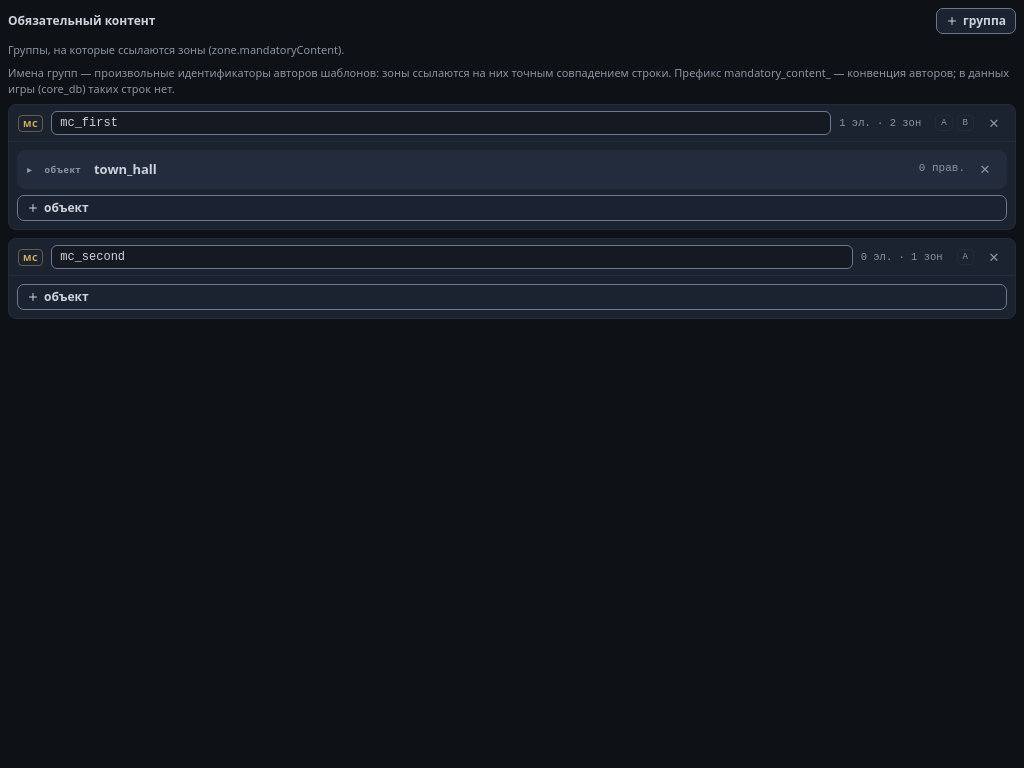
Test case: удаление корневой группы (MandatoryContentPanel) › «Удалить» убирает карточку и каскадно чистит ссылки зон в сторе
The image size is (1024, 768).
Click the button titled "Удалить группу" in the row of "1 эл. · 2 зон". click: [994, 123]
box: [982,111,1006,135]
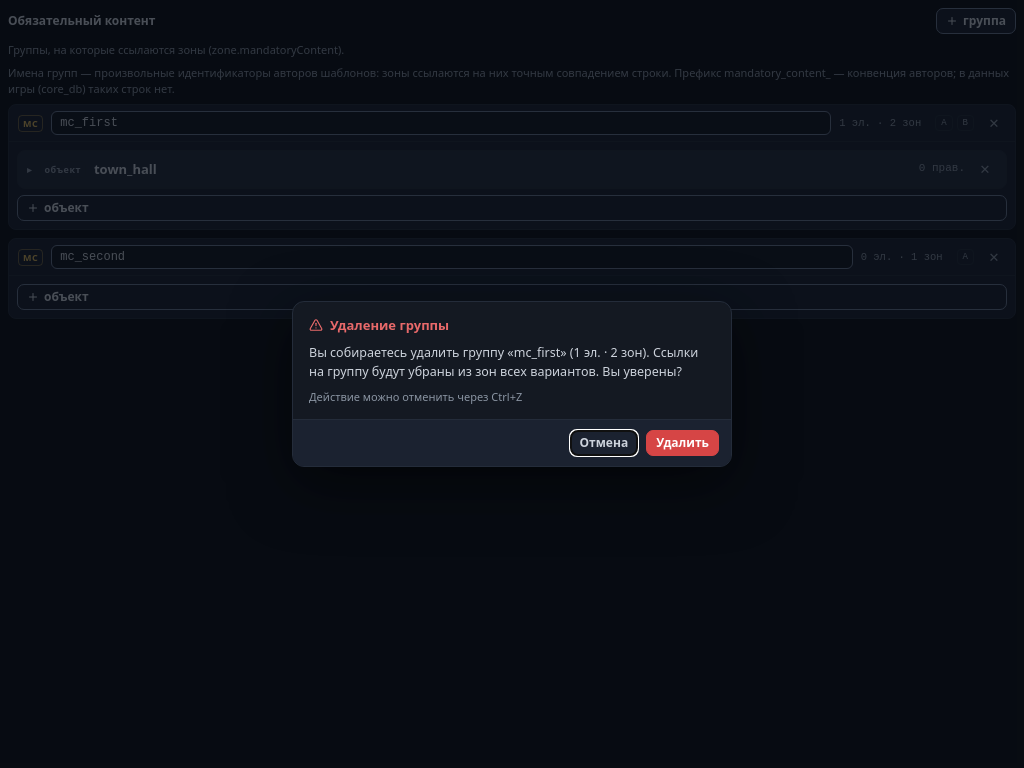
Click the button "Удалить". click: [683, 443]
box: [646,430,719,456]
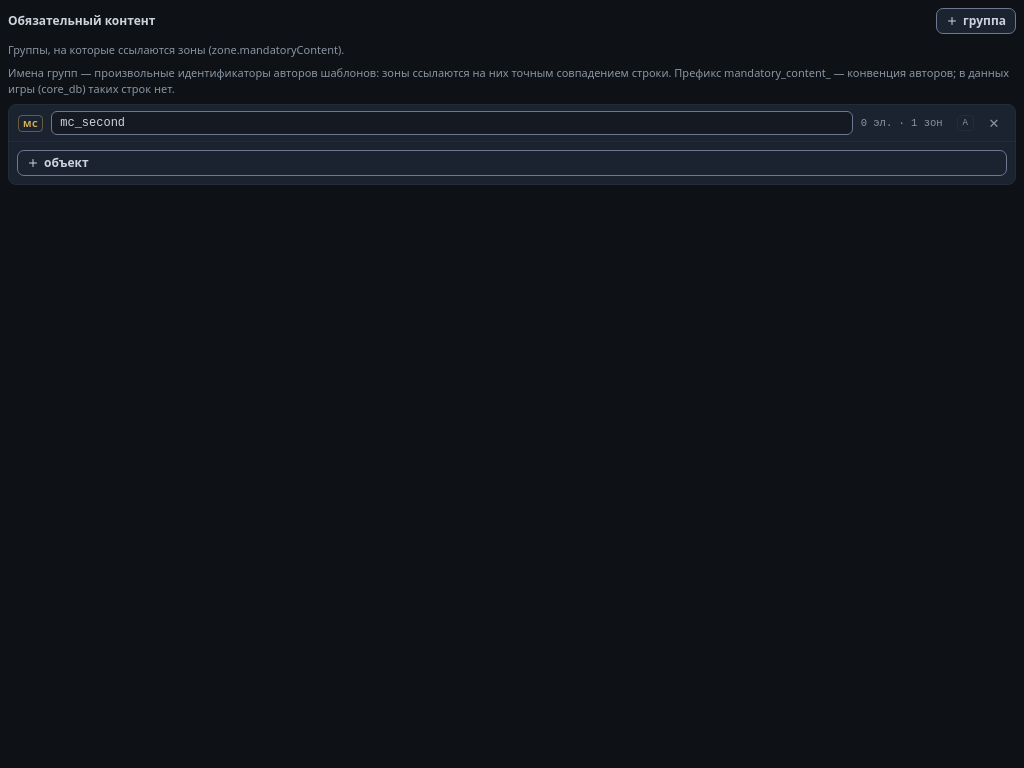
Expected: the element with id "mcg-mc_second" is shown, [8,104,1016,185]
Result: the dialog is gone
Result: the element with id "mcg-mc_first" is gone
